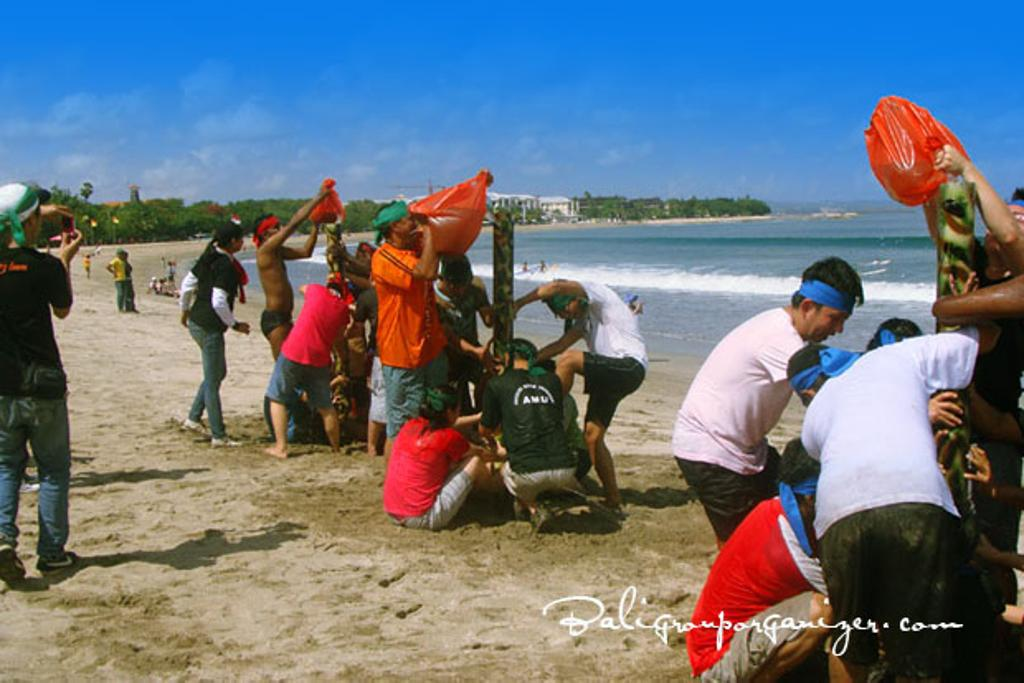face: (803, 303, 847, 342), (987, 208, 1024, 253), (446, 273, 471, 299), (398, 208, 418, 237), (553, 301, 583, 320), (29, 207, 42, 242), (266, 221, 284, 243), (447, 401, 462, 426), (232, 235, 244, 251), (357, 248, 367, 259), (120, 252, 125, 259)
